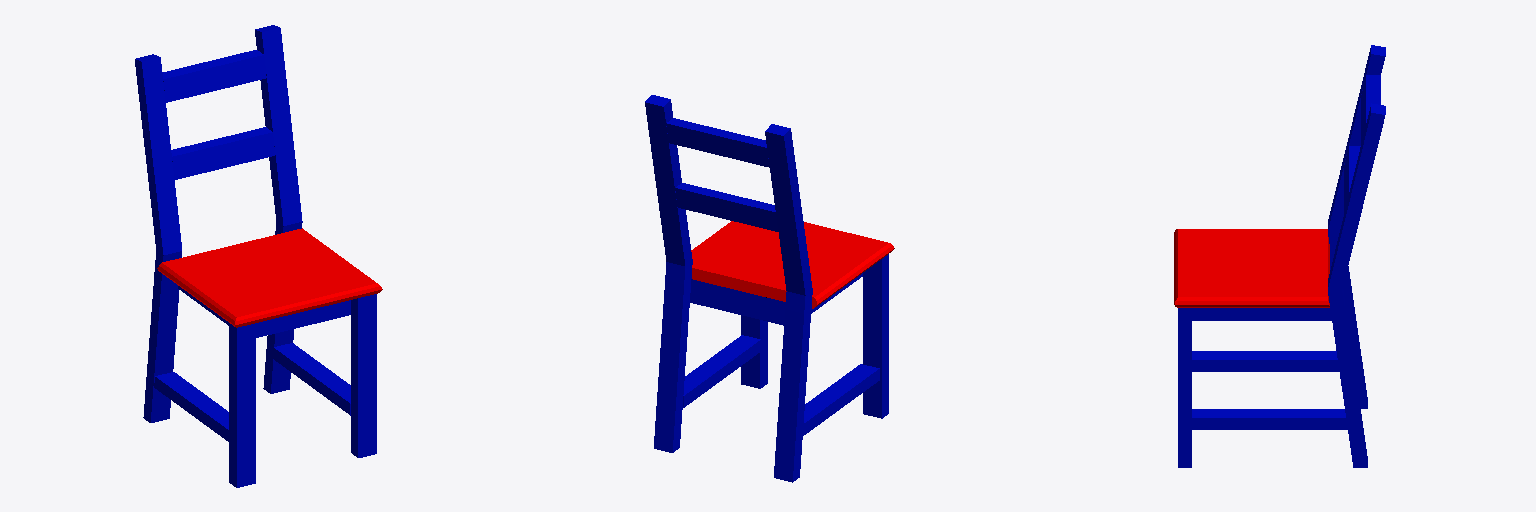
Rendered from Texture_Chair.obj.
3 views of the same model, side by side, from view 1: azimuth 30°, elevation 25°; view 2: azimuth 150°, elevation 25°; view 3: azimuth 270°, elevation 25° (orthographic).
Parts seen in each view (by area): view 1: Chair_Model; view 2: Chair_Model; view 3: Chair_Model.
Boxes of the visible parts, <box> form: Chair_Model: <box>135,25,382,487</box>; Chair_Model: <box>645,95,894,482</box>; Chair_Model: <box>1174,45,1385,467</box>.
Size of the model in its own units: 16.96 by 38.84 by 20.92.